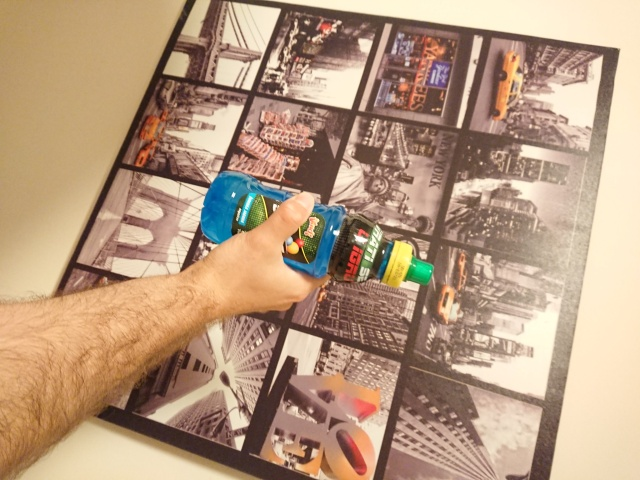Vindi Iso Sport Forest Strawberries 500mL: (198, 167, 435, 288)
